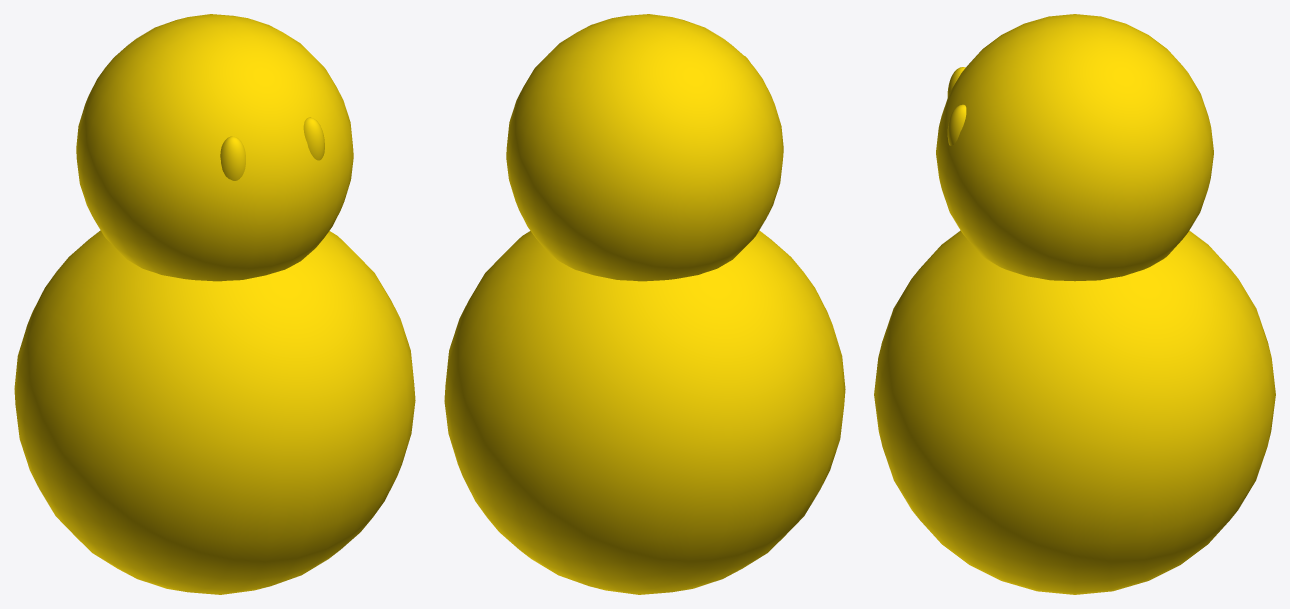
The model's file is PlayerVisual.glb.
3 renders of one model, left to right at view 1: azimuth 30°, elevation 25°; view 2: azimuth 150°, elevation 25°; view 3: azimuth 270°, elevation 25°, orthographic.
Parts seen in each view (by area): view 1: Body, Head, Eye_R, Eye_L; view 2: Body, Head; view 3: Body, Head, Eye_L.
Part boxes in pixels (left/top/right/bottom): Body: left=14, top=230, right=415, bottom=594; Head: left=76, top=14, right=353, bottom=281; Eye_R: left=220, top=136, right=245, bottom=180; Eye_L: left=303, top=117, right=324, bottom=160; Body: left=444, top=230, right=845, bottom=594; Head: left=506, top=14, right=783, bottom=281; Body: left=874, top=230, right=1275, bottom=594; Head: left=936, top=14, right=1213, bottom=281; Eye_L: left=947, top=104, right=966, bottom=145.
Size of the model in its own units: 1.3 by 1.96 by 1.3.
